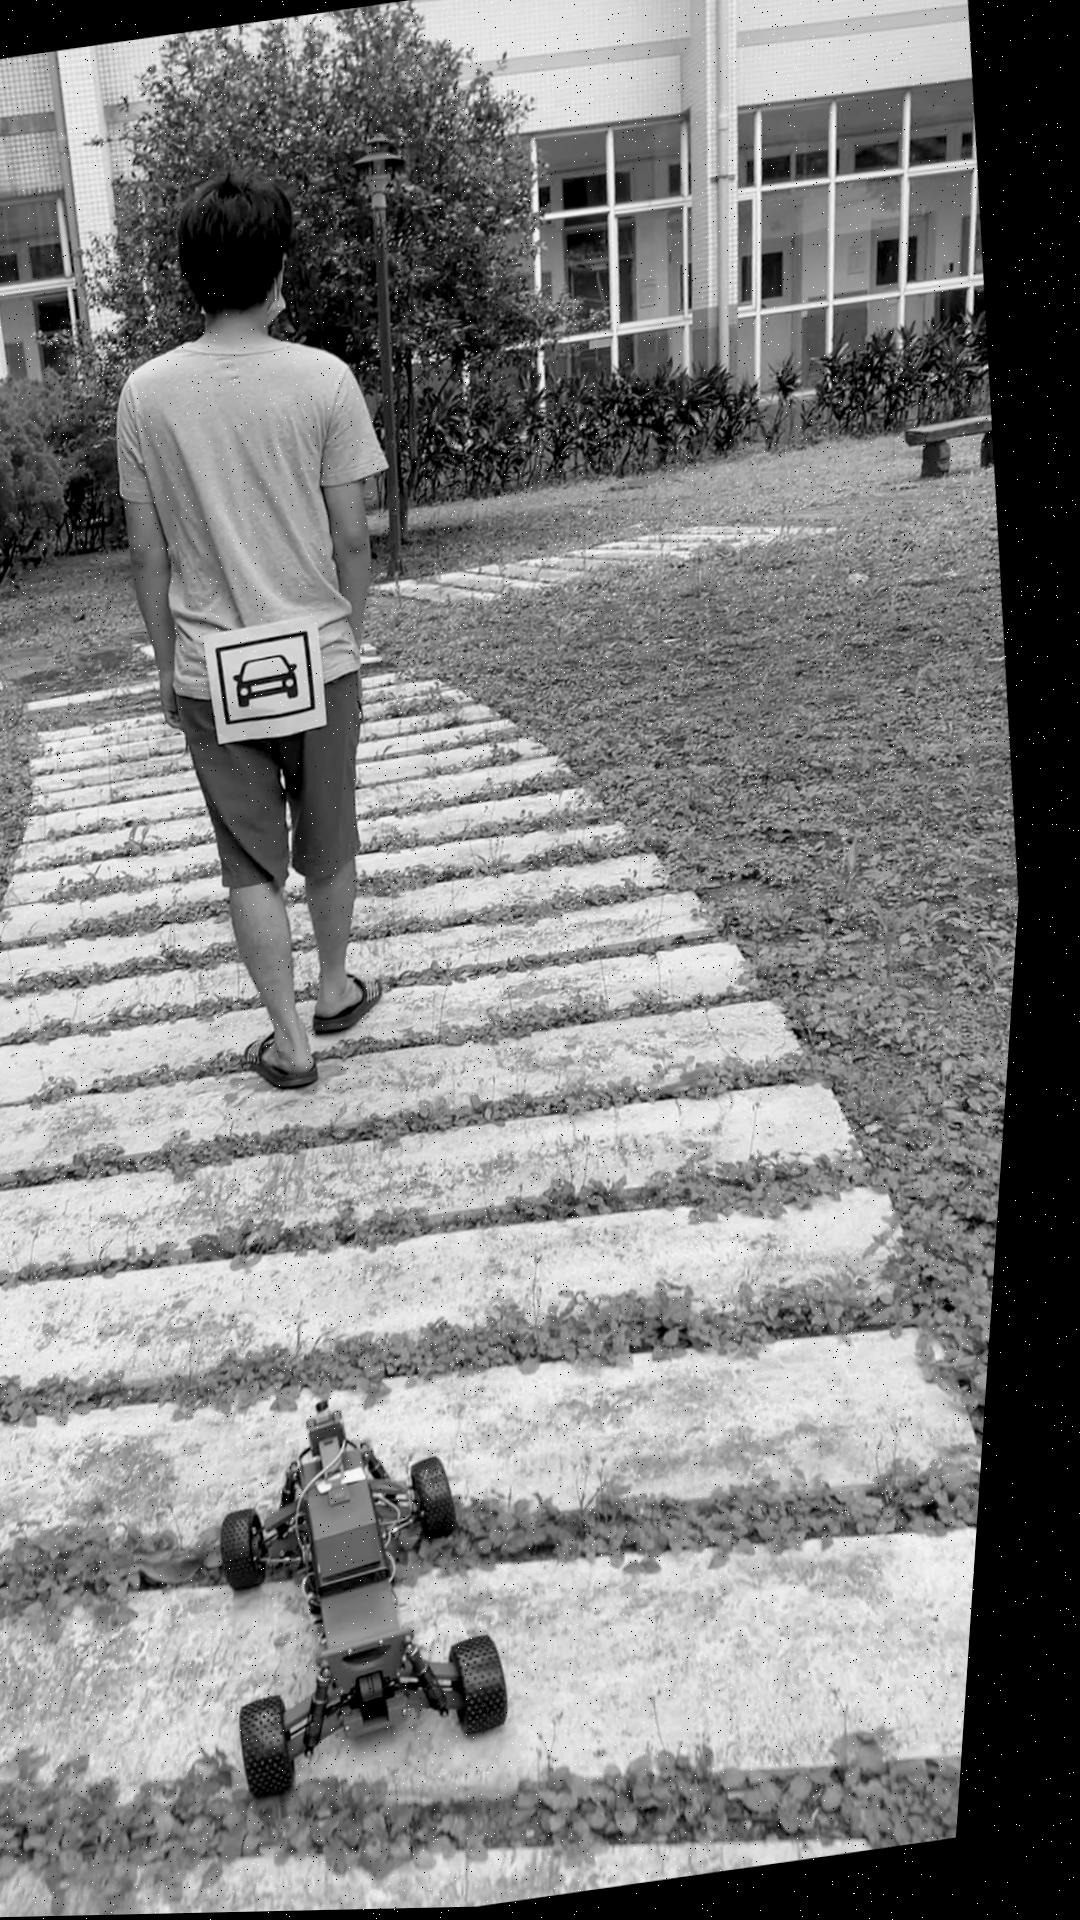car_img: (219, 630, 331, 728)
